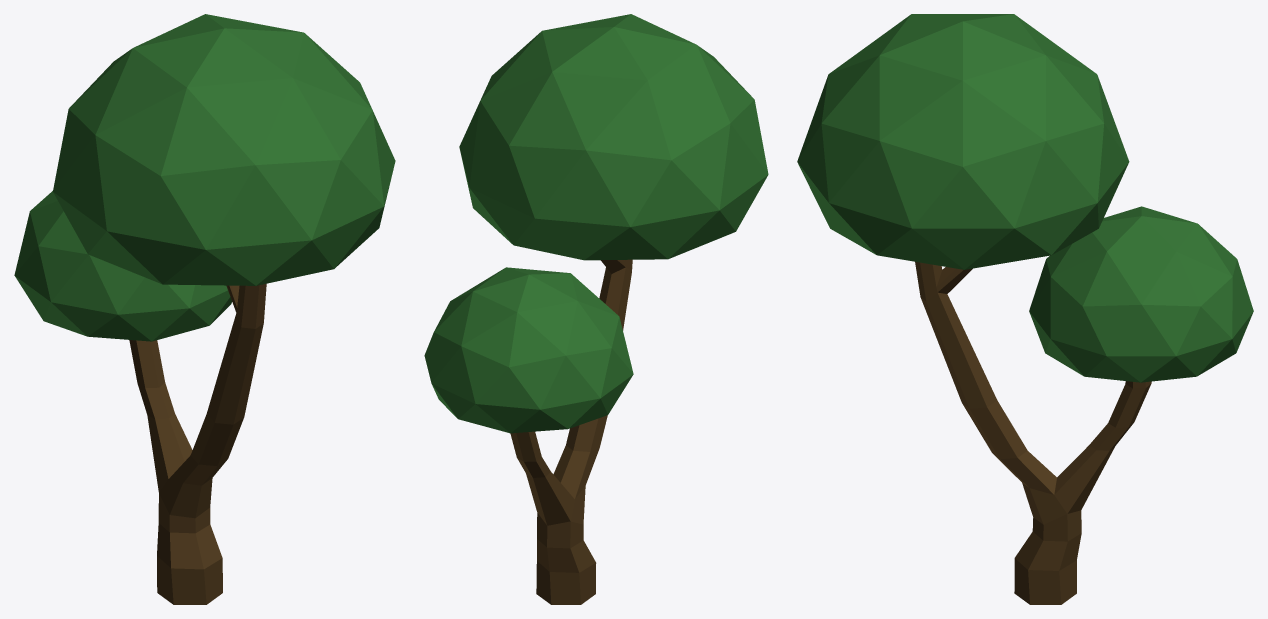
The model's file is Tree03.fbx.
3 views of the same model, side by side, from view 1: azimuth 30°, elevation 25°; view 2: azimuth 150°, elevation 25°; view 3: azimuth 270°, elevation 25° (orthographic). The views are drawn at different scales.
Parts seen in each view (by area): view 1: Tree03; view 2: Tree03; view 3: Tree03.
Part boxes in pixels (x1,y1,x2,y2): Tree03: (14, 14, 395, 604); Tree03: (424, 14, 768, 604); Tree03: (797, 14, 1253, 604).
Bounding box in the file's own units: 6.85 × 13.59 × 9.9.
